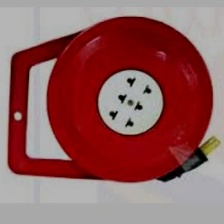three_eye_plug: (39, 11, 217, 185)
